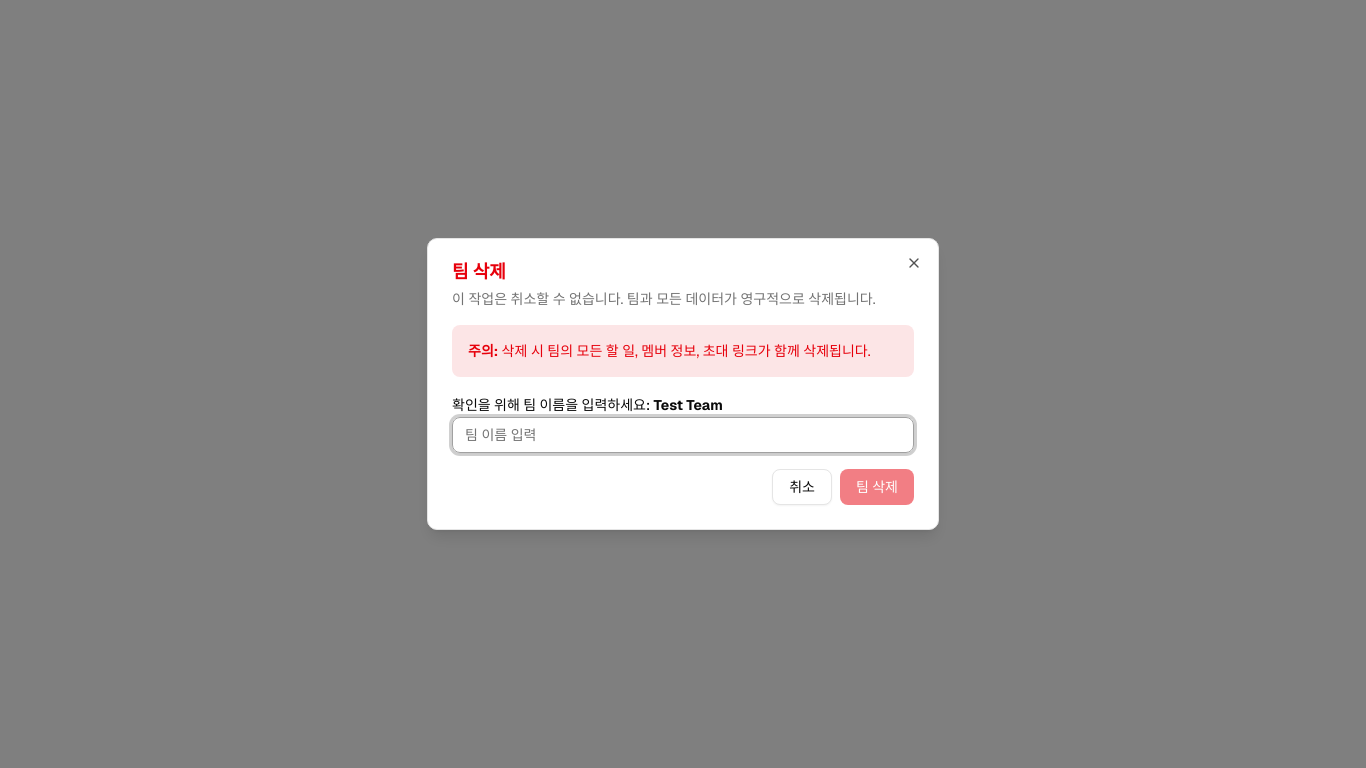
it: DeleteTeamDialog › enables delete button when team name matches
In the field with placeholder "팀 이름 입력": x=683, y=435 [452, 417, 914, 453], type "Test Team"
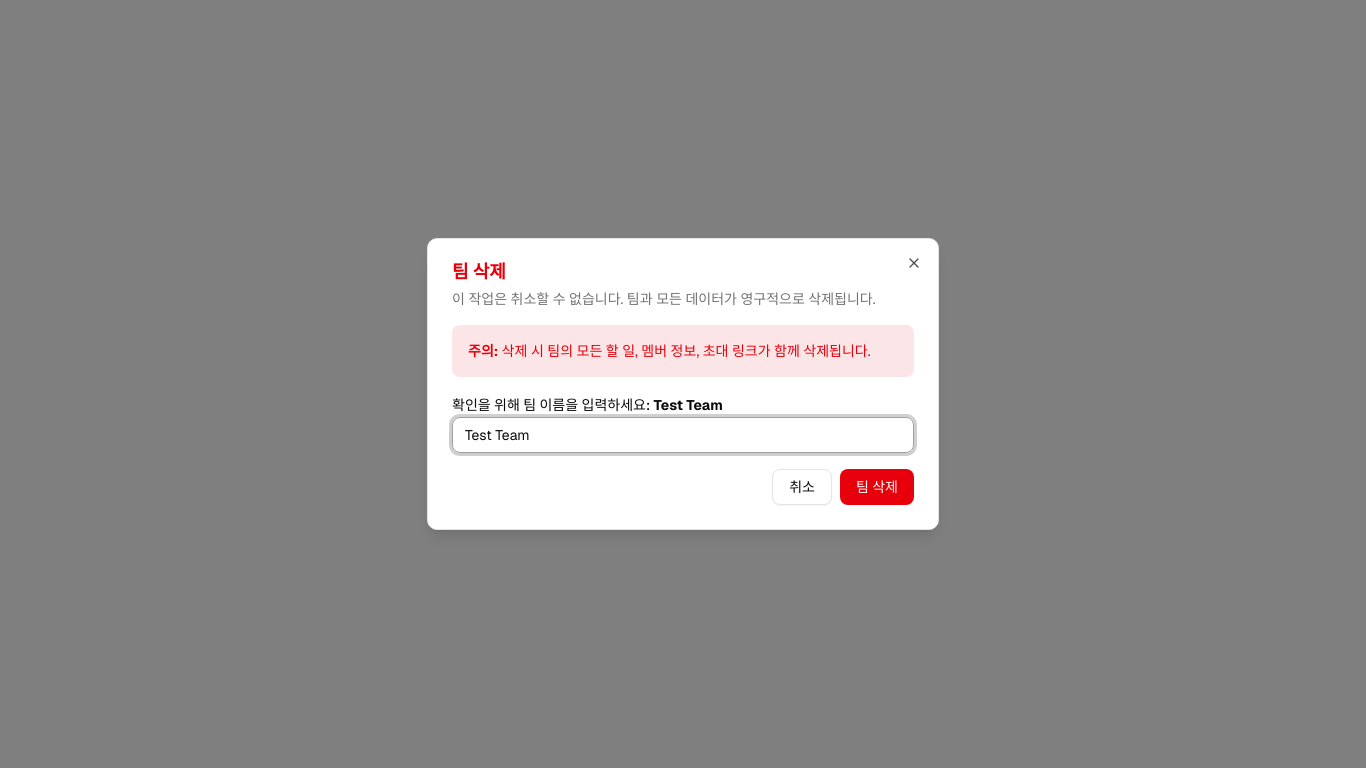
Now the button "팀 삭제" is enabled, box [840, 469, 914, 505]
